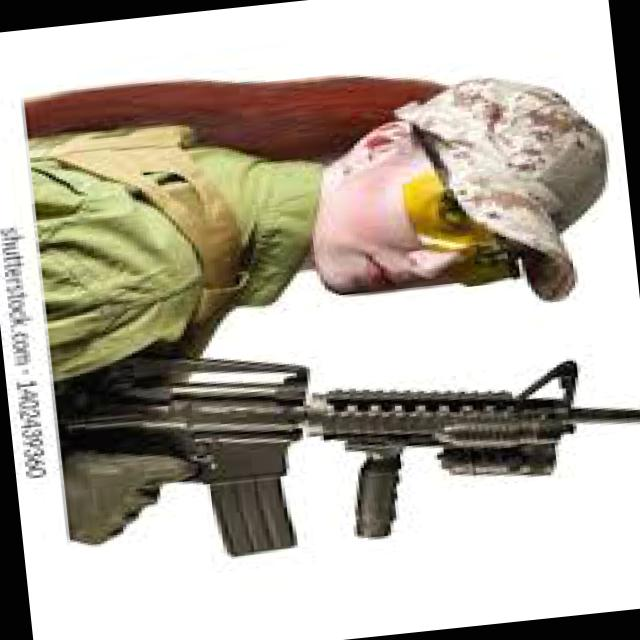long weapon: (69, 294, 639, 569)
